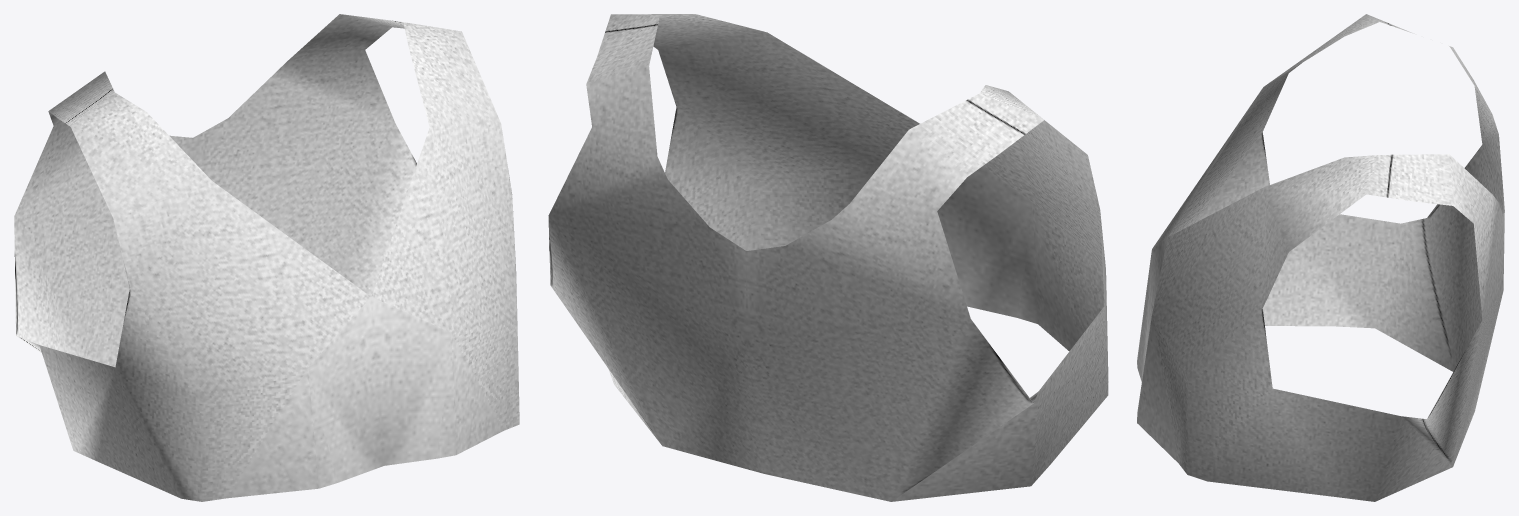
Rendered from Bra.glb.
The picture shows the model from 3 angles, left to right: view 1: azimuth 30°, elevation 25°; view 2: azimuth 150°, elevation 25°; view 3: azimuth 270°, elevation 25°; orthographic projection. The views are drawn at different scales.
Parts seen in each view (by area): view 1: Bra; view 2: Bra; view 3: Bra.
Boxes of the visible parts, x1=… form: Bra: x1=14, y1=14, x2=519, y2=501; Bra: x1=548, y1=14, x2=1108, y2=501; Bra: x1=1137, y1=14, x2=1504, y2=501.
Size of the model in its own units: 4.73 by 3.63 by 3.66.
1 material, 1 textured.
